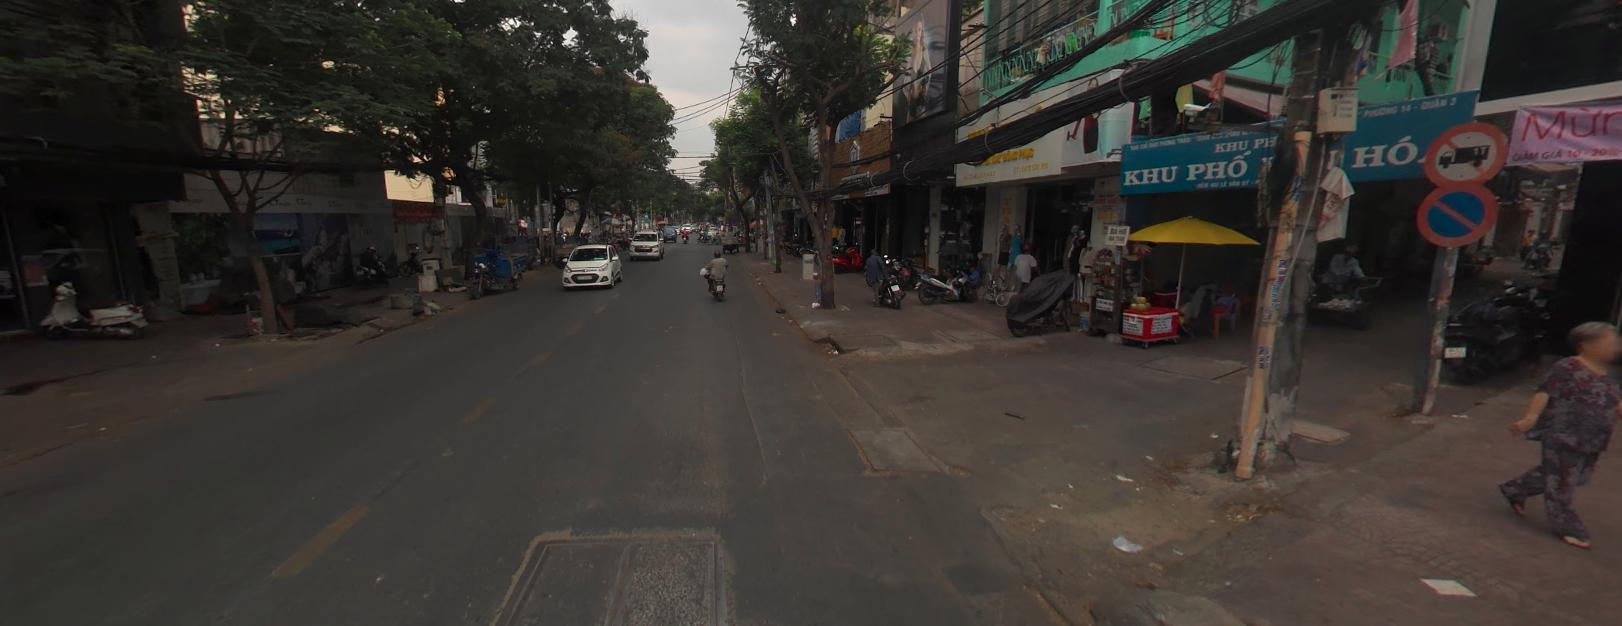Cam con lai: (1416, 121, 1505, 180)
Cam dung va do: (1411, 178, 1508, 246)
